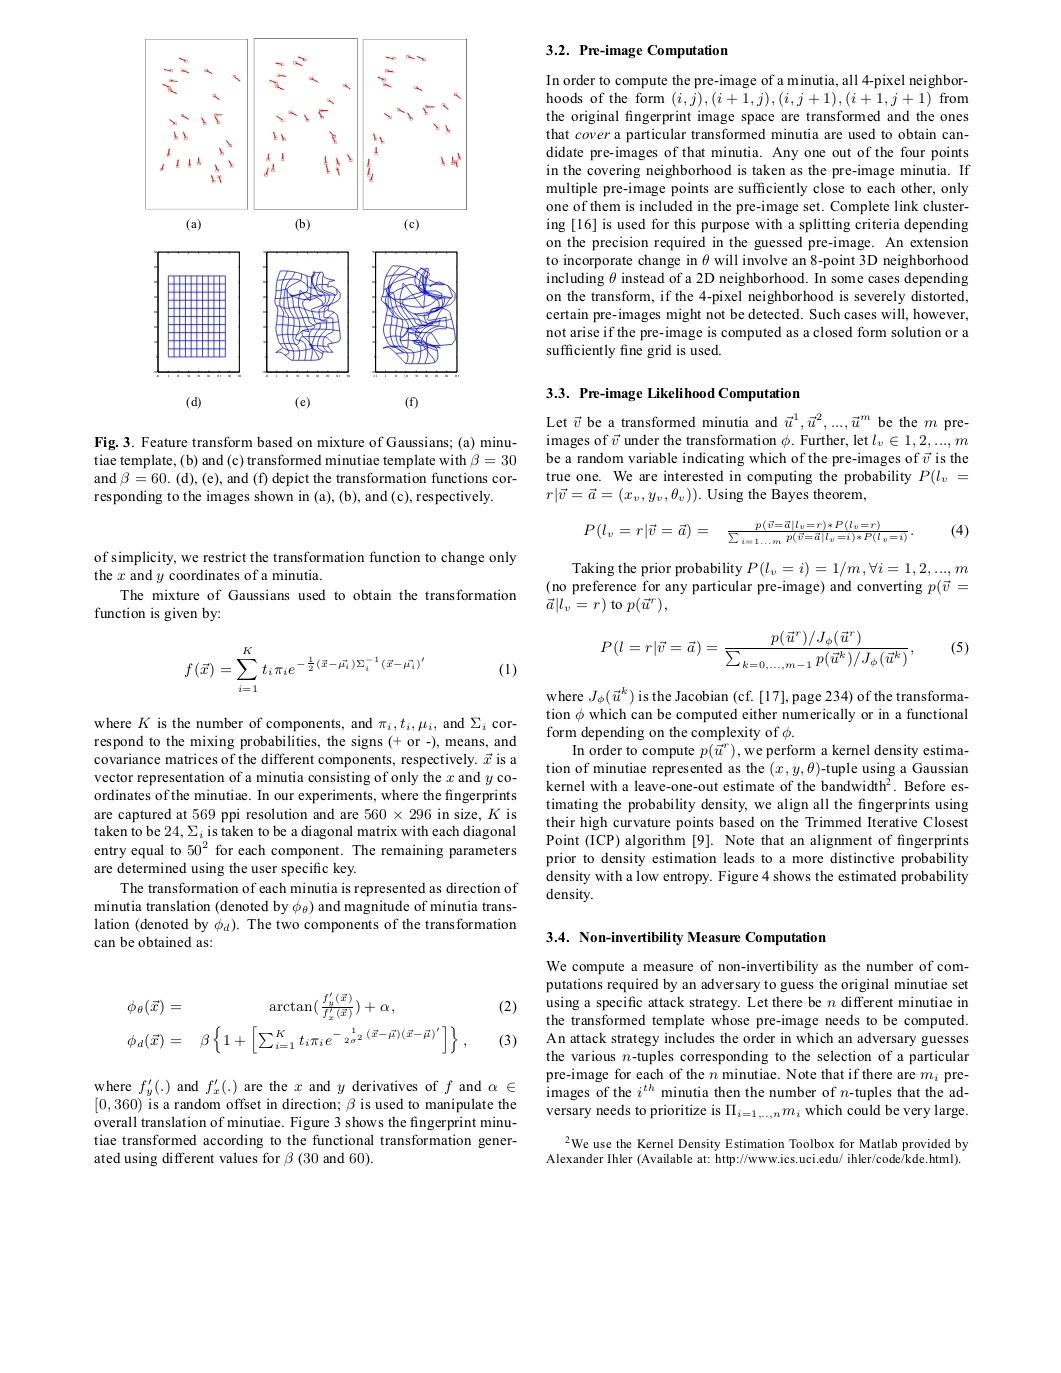figure: (253, 38, 357, 210), (362, 39, 466, 210), (145, 39, 247, 210), (370, 251, 458, 376), (153, 251, 240, 376), (262, 251, 349, 376)
formula: (600, 629, 968, 670), (184, 647, 516, 691), (127, 991, 516, 1020), (127, 1025, 516, 1054), (583, 519, 968, 544)
